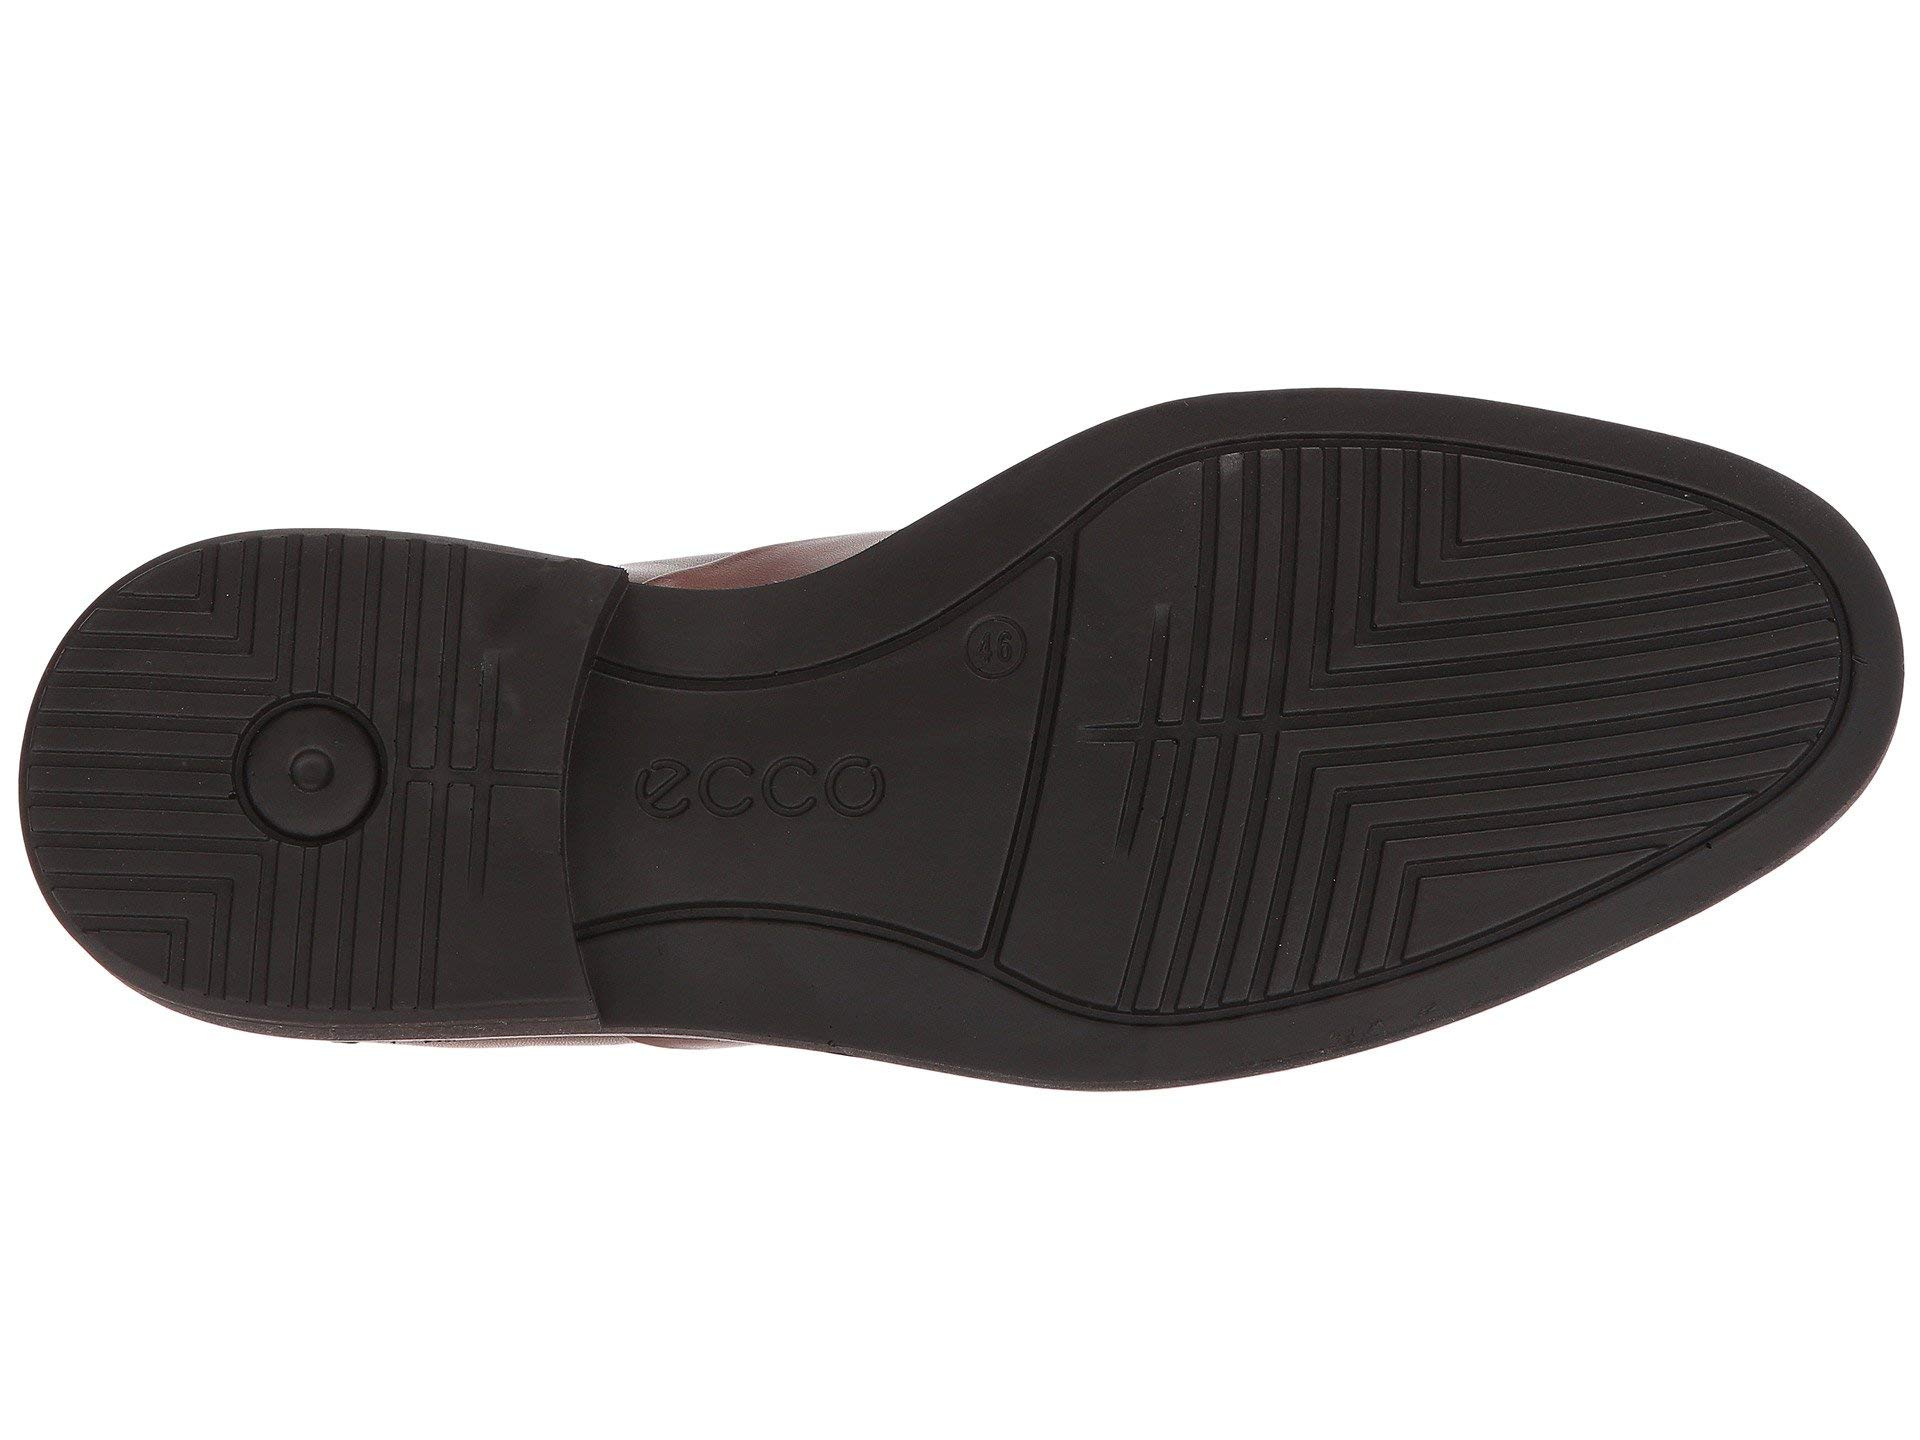chevron: (1128, 588, 1677, 982)
circle: (237, 687, 384, 833), (951, 616, 1043, 691)
line: (1128, 588, 1677, 982)
text: (629, 725, 909, 855), (951, 616, 1043, 691)
triangle: (1128, 588, 1677, 982), (1429, 434, 1722, 557)
